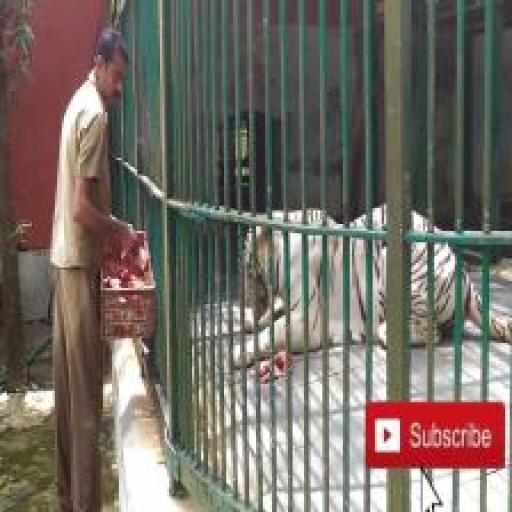Tiger: (231, 203, 511, 368)
